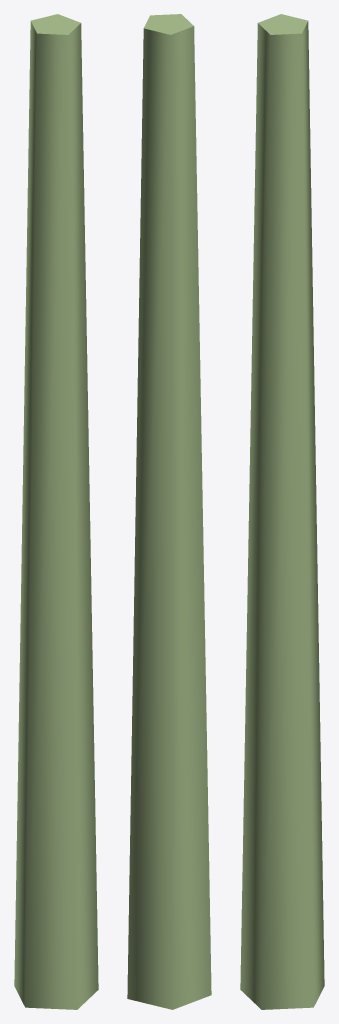
The model's file is reed.gltf.
3 renders of one model, left to right at view 1: azimuth 30°, elevation 25°; view 2: azimuth 150°, elevation 25°; view 3: azimuth 330°, elevation 25°, orthographic.
Parts seen in each view (by area): view 1: Reed; view 2: Reed; view 3: Reed.
Boxes of the visible parts, x1,y1,x2,y2 form: Reed: [14, 14, 98, 1009]; Reed: [127, 14, 211, 1009]; Reed: [240, 14, 324, 1009].
Bounding box in the file's own units: 0.0951 × 1.2 × 0.0905.
